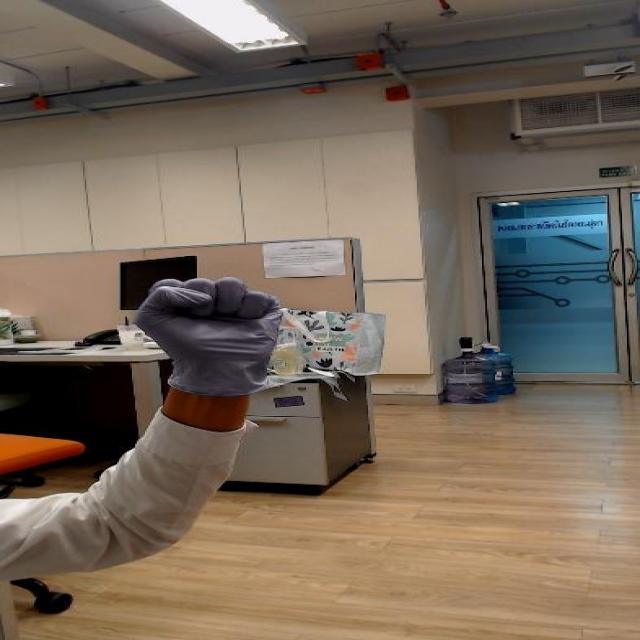with_gloves: (116, 266, 307, 363)
